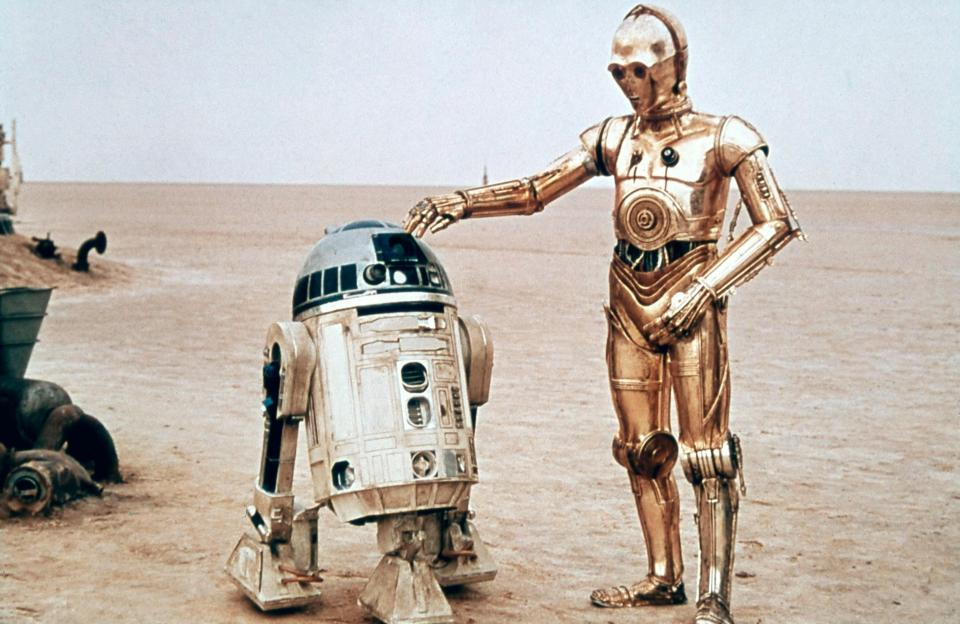r2d2: (223, 219, 501, 624)
